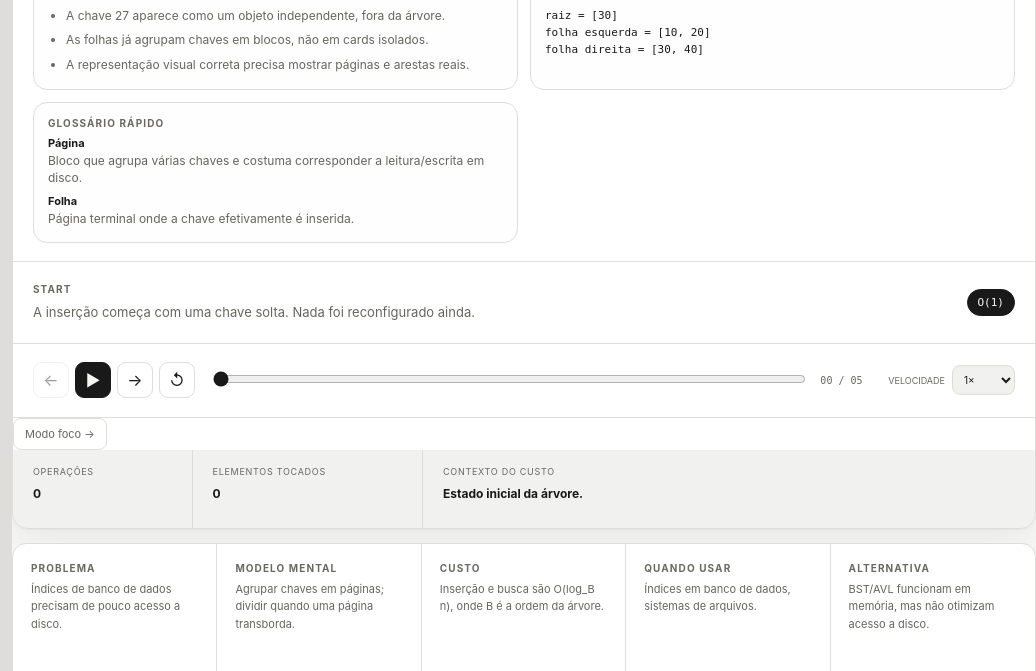
Test: LessonPlayer › usa um renderer de árvore real para a lição de B+ Tree
This screenshot has width=1036, height=671.
(page scrolled)
Click the button named "Próximo passo": (135, 380) [117,362,153,398]
(page scrolled)
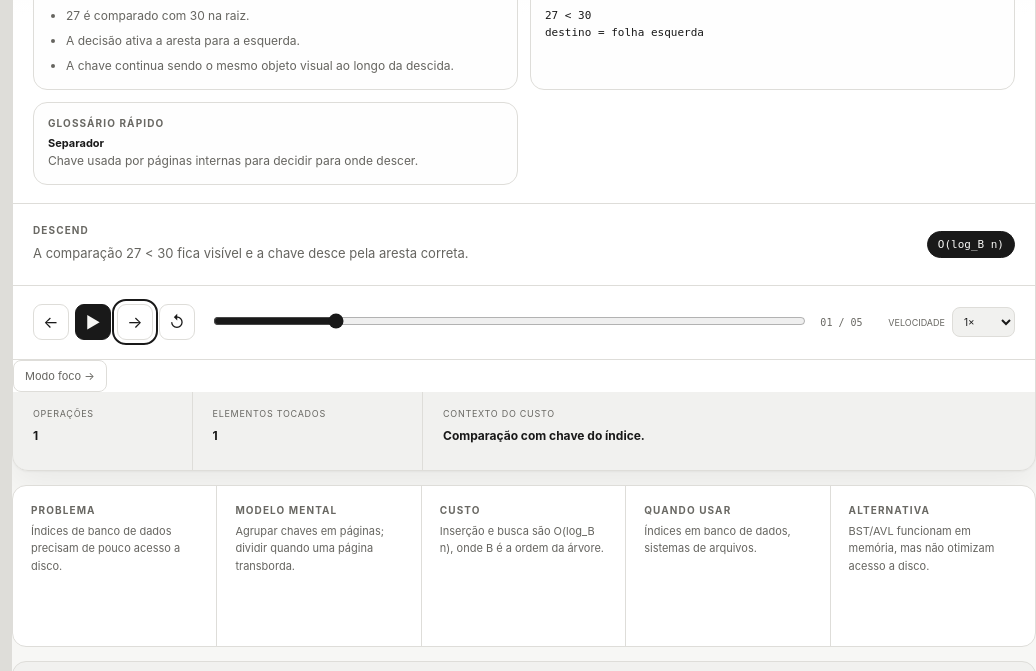
Click the button named "Próximo passo": (135, 322) [117,304,153,340]
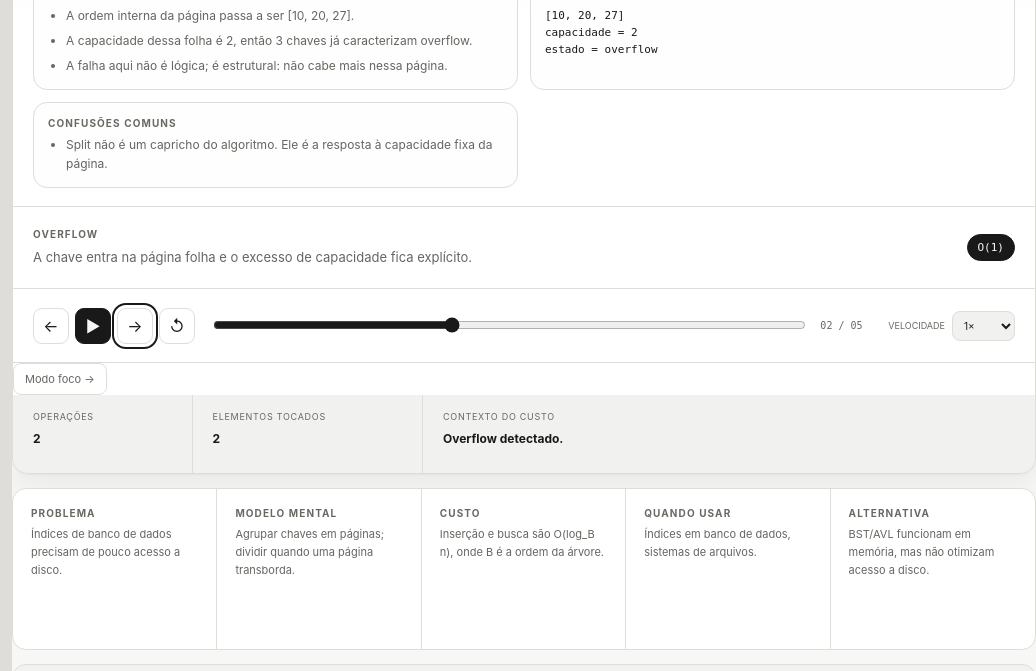
Click the button named "Próximo passo": (135, 326) [117,308,153,344]
(page scrolled)
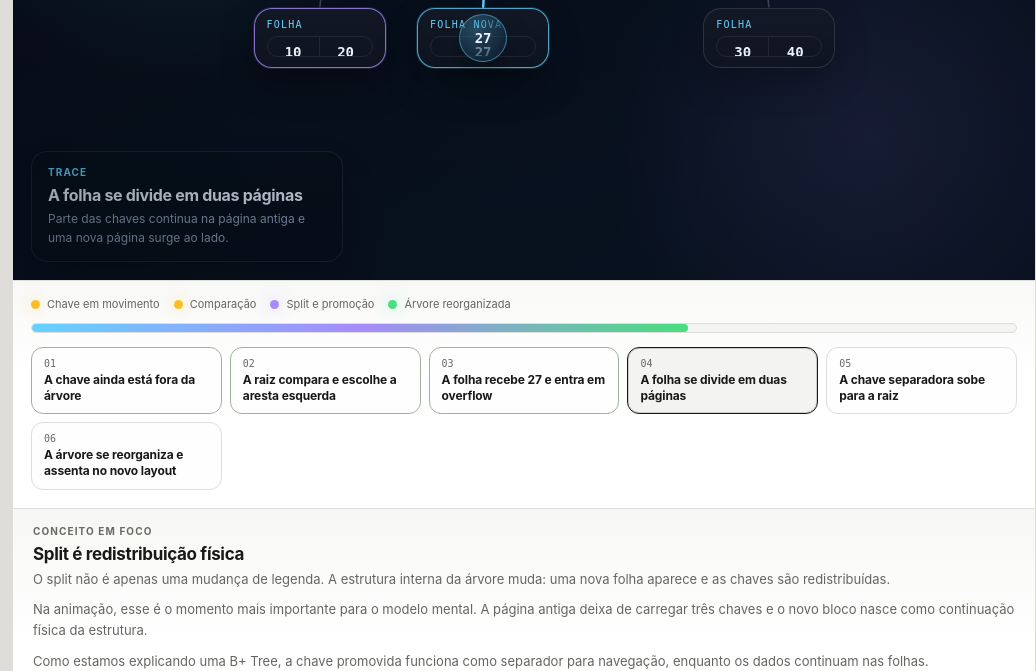
Expected: the number of elements with class "tree-page" is 4
Expected: the element labelled "Conceito em foco" shows "Split é redistribuição física", [33,544,244,564]
Click the button "05 A chave separadora sobe para a raiz": (922, 381) [826,347,1017,414]
(page scrolled)
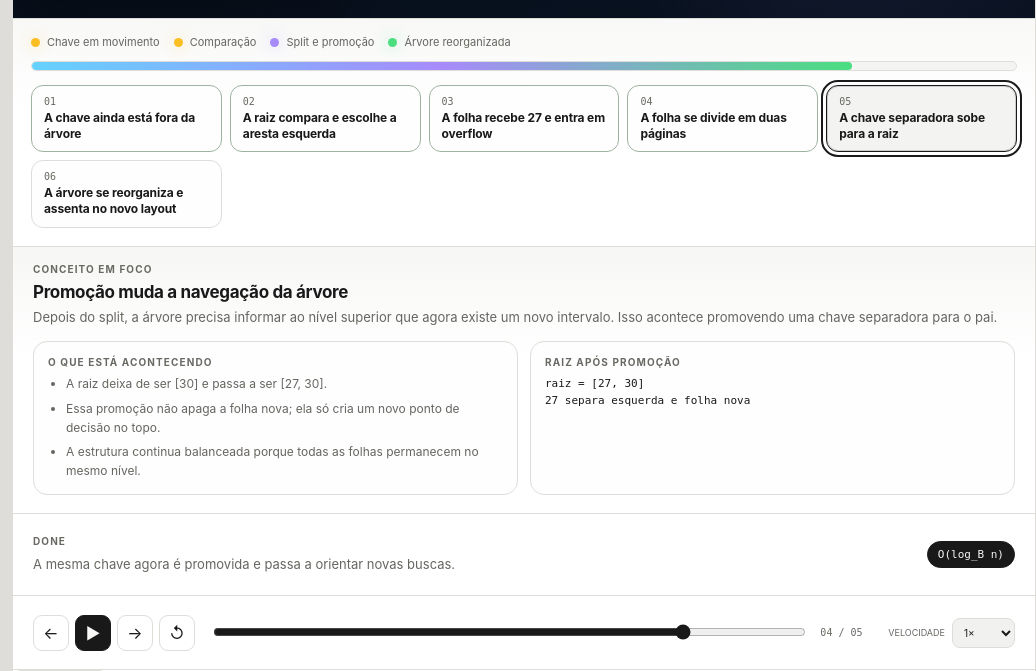
Expected: the element labelled "Conceito em foco" shows "Promoção muda a navegação da árvore", [33,282,348,302]
